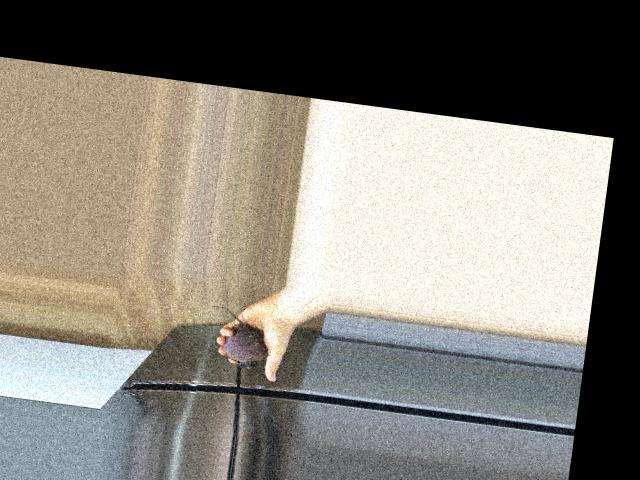beet: (202, 304, 272, 370)
